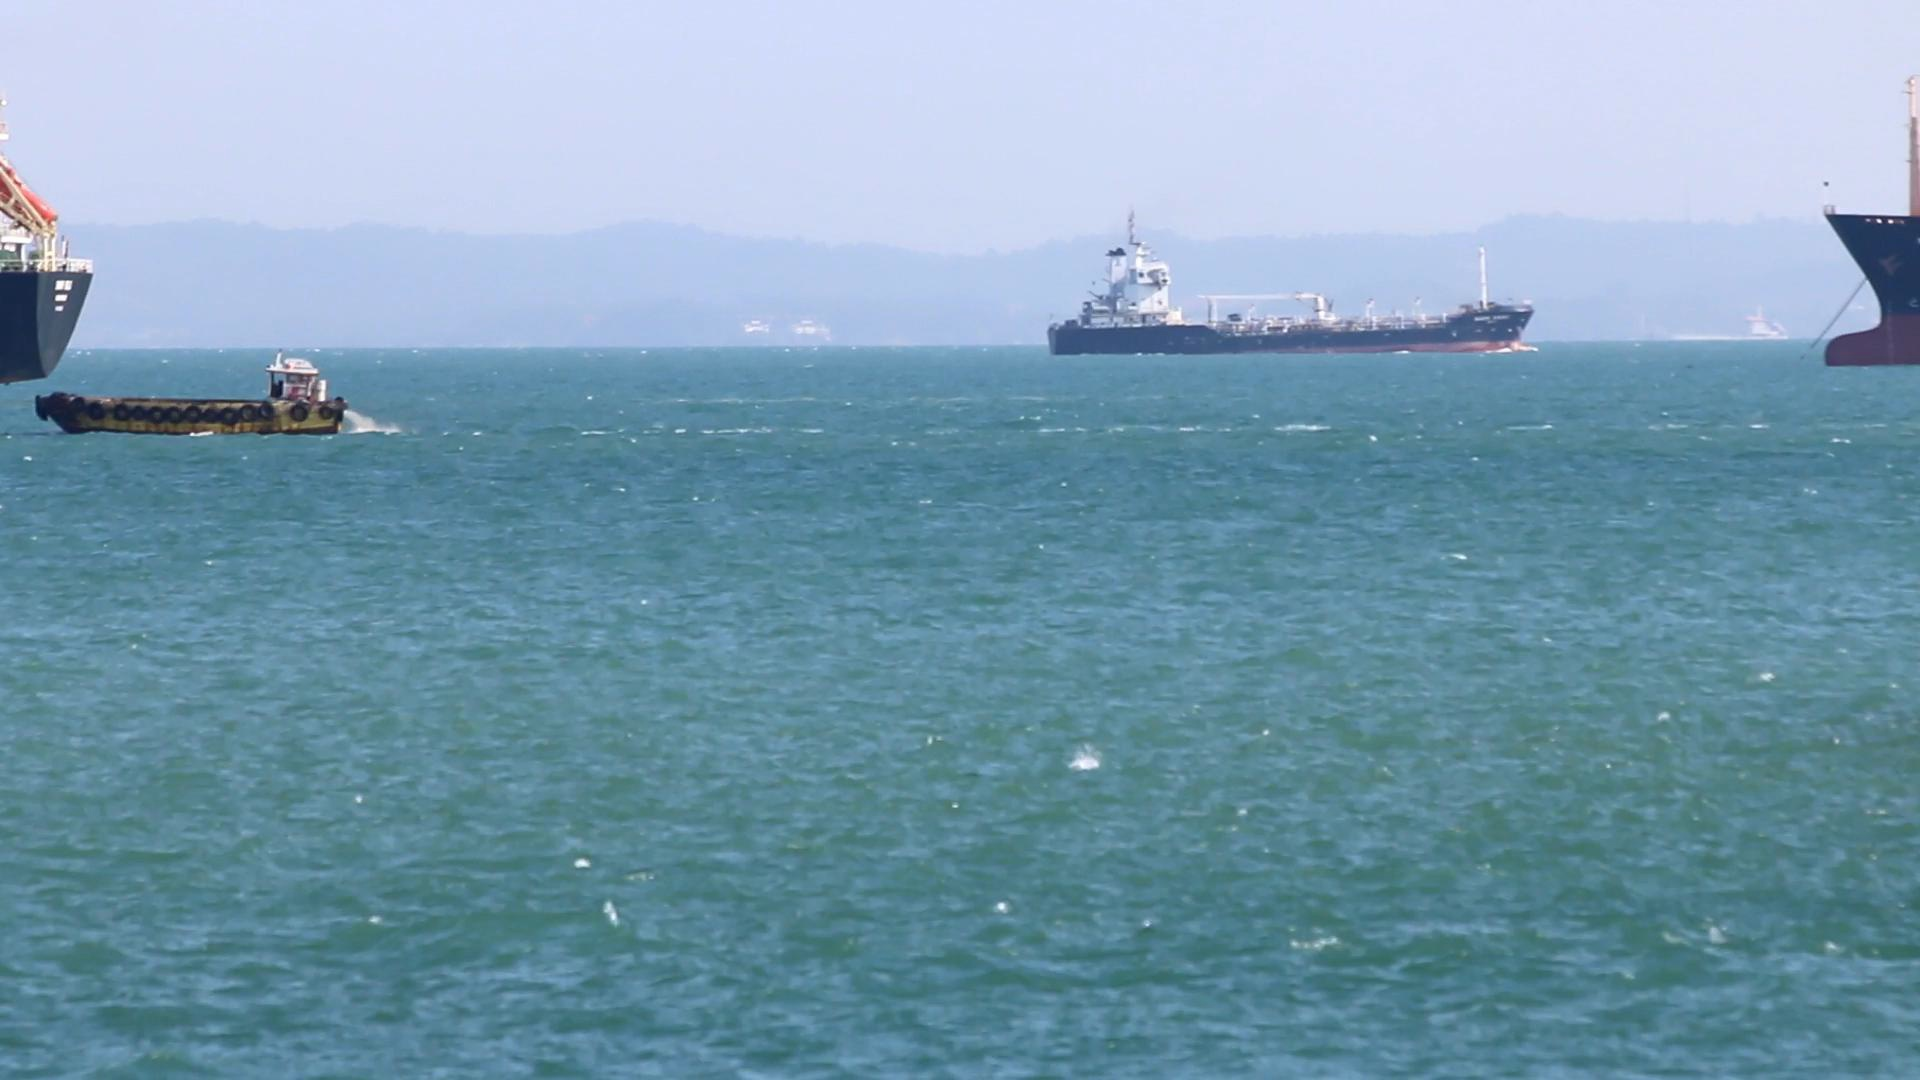Container Ship: (1045, 205, 1534, 357), (1823, 75, 1920, 369), (0, 160, 92, 384)
